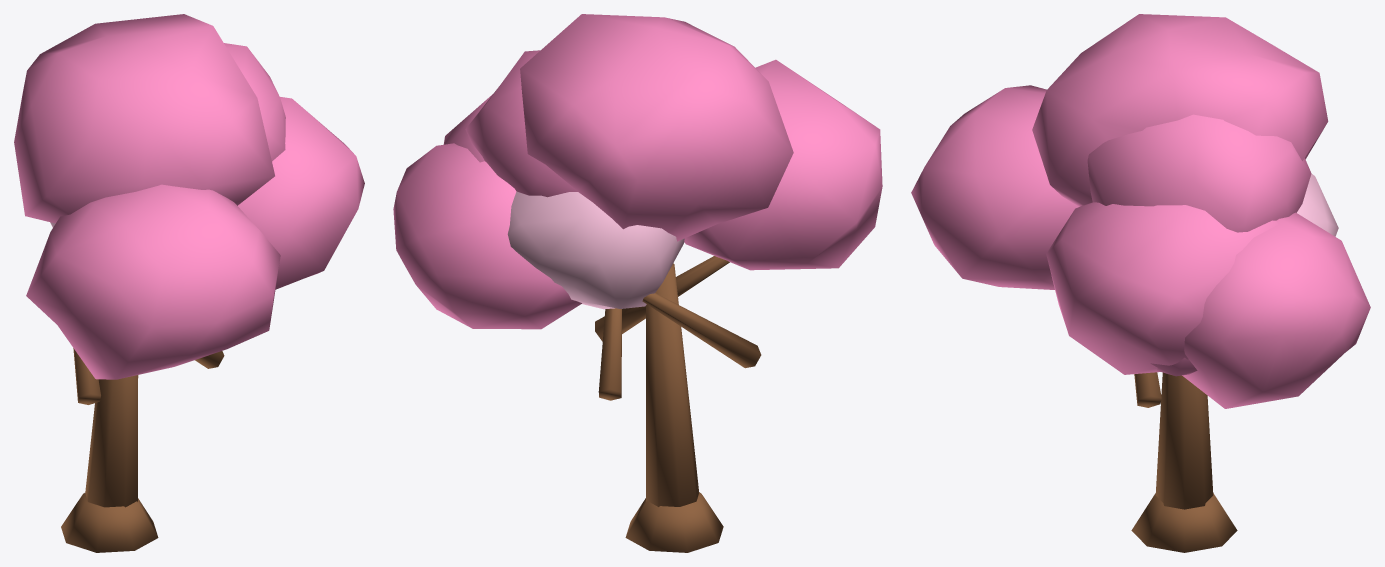
File: tree_cherry_small.glb
The picture shows the model from 3 angles, left to right: view 1: azimuth 30°, elevation 25°; view 2: azimuth 150°, elevation 25°; view 3: azimuth 270°, elevation 25°; orthographic projection. The views are drawn at different scales.
Parts seen in each view (by area): view 1: tree_cherry_small; view 2: tree_cherry_small; view 3: tree_cherry_small.
Boxes of the visible parts, <box> form: tree_cherry_small: <box>14,14,364,552</box>; tree_cherry_small: <box>393,14,882,552</box>; tree_cherry_small: <box>911,14,1370,552</box>.
Size of the model in its own units: 3.3 by 4.12 by 3.33.
